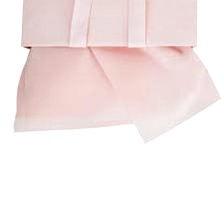book: (16, 0, 204, 54)
tissue: (8, 41, 224, 149)
